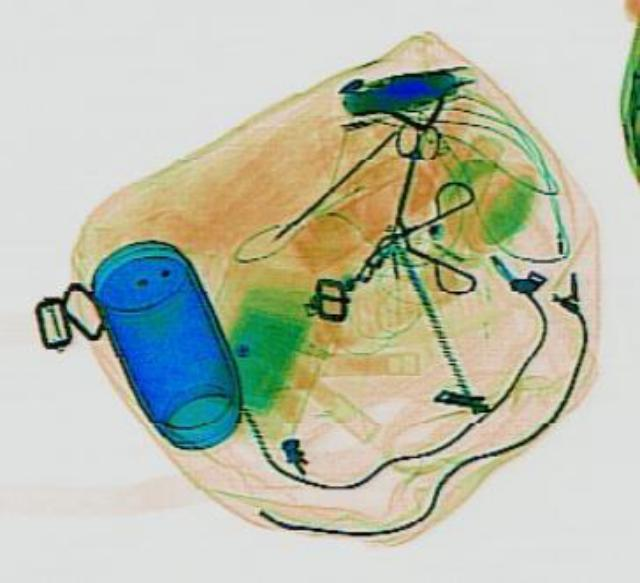Scissors: (376, 117, 442, 226)
